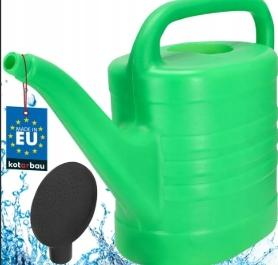ARROSOIR: (0, 0, 276, 265)
